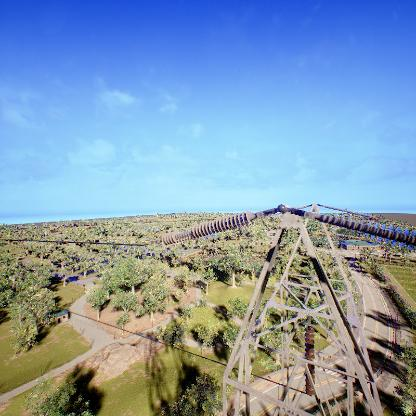insulator: (158, 211, 256, 247), (318, 211, 416, 247), (303, 326, 316, 397)
